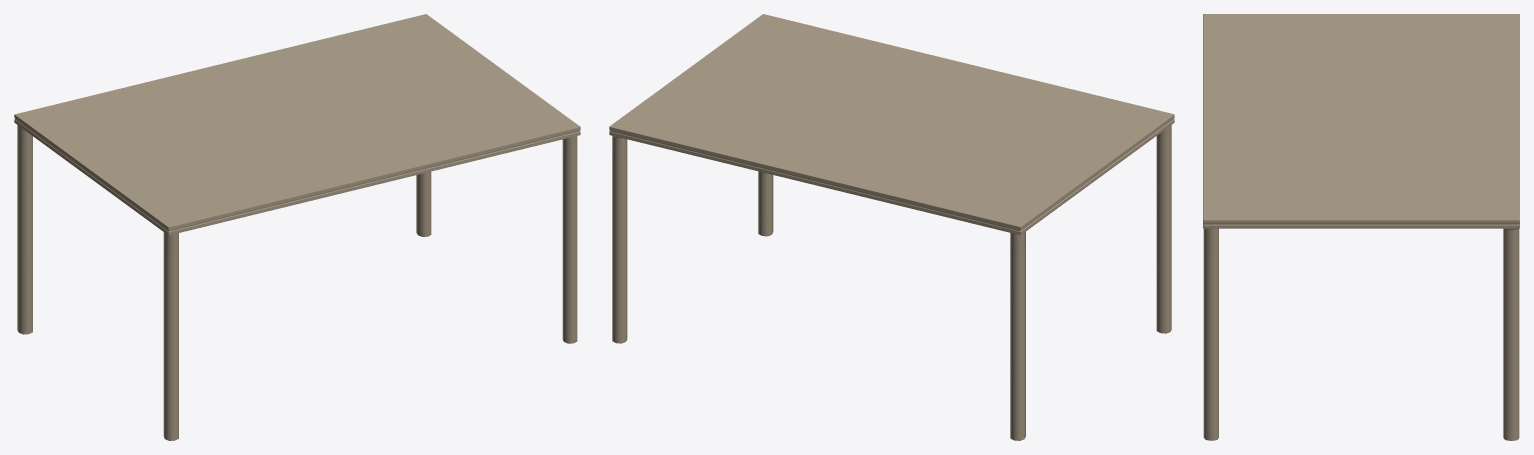
The model's file is tableTop_01_ah.fbx.
The picture shows the model from 3 angles, left to right: view 1: azimuth 30°, elevation 25°; view 2: azimuth 150°, elevation 25°; view 3: azimuth 270°, elevation 25°; orthographic projection. The views are drawn at different scales.
Visible parts, largest first — view 1: tabletop; view 2: tabletop; view 3: tabletop.
Part boxes in pixels (box(x1,y1,x2,y2)): tabletop: box(14, 14, 580, 440); tabletop: box(609, 14, 1174, 440); tabletop: box(1203, 14, 1519, 440).
Size of the model in its own units: 12.8 by 6.4 by 8.3.
